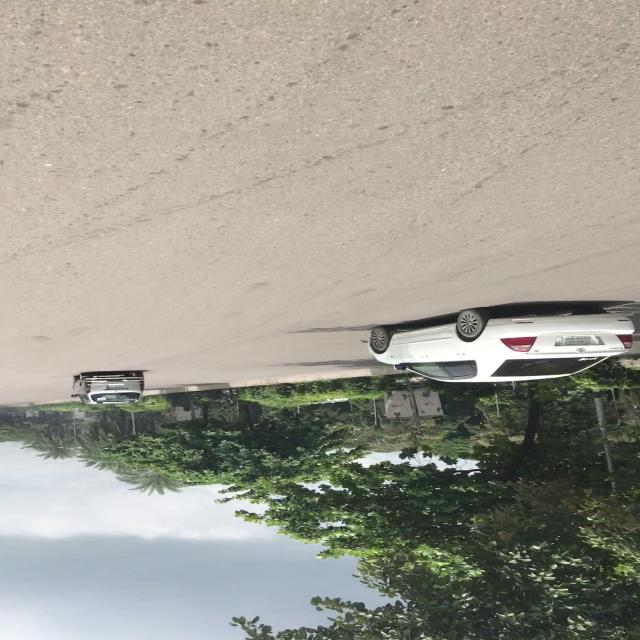silver: (72, 367, 150, 408)
white: (357, 304, 640, 382)
